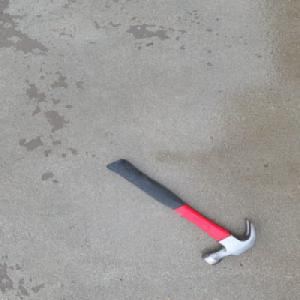Hammer: (102, 157, 254, 264)
